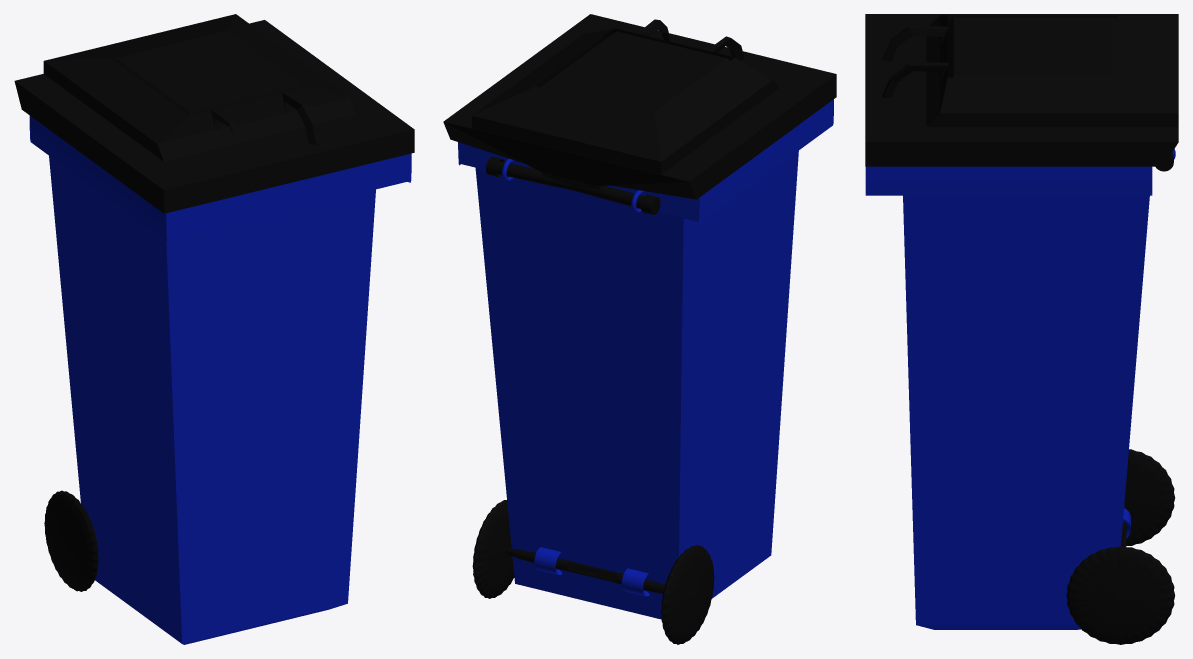
File: bote azul.obj
3 views of the same model, side by side, from view 1: azimuth 30°, elevation 25°; view 2: azimuth 150°, elevation 25°; view 3: azimuth 270°, elevation 25° (orthographic). The views are drawn at different scales.
Parts seen in each view (by area): view 1: Torus.001, Plane.002, Cylinder.003; view 2: Torus.001, Plane.002, Cylinder.003; view 3: Torus.001, Plane.002, Cylinder.003.
Boxes of the visible parts, x1,y1,x2,y2 form: Torus.001: [29, 116, 411, 644]; Plane.002: [14, 14, 414, 213]; Cylinder.003: [44, 490, 98, 591]; Torus.001: [458, 99, 833, 619]; Plane.002: [443, 14, 836, 214]; Cylinder.003: [472, 500, 714, 644]; Torus.001: [865, 149, 1175, 629]; Plane.002: [865, 14, 1178, 171]; Cylinder.003: [1066, 449, 1175, 644].
Size of the model in its own units: 4.6 by 9.23 by 4.77.
